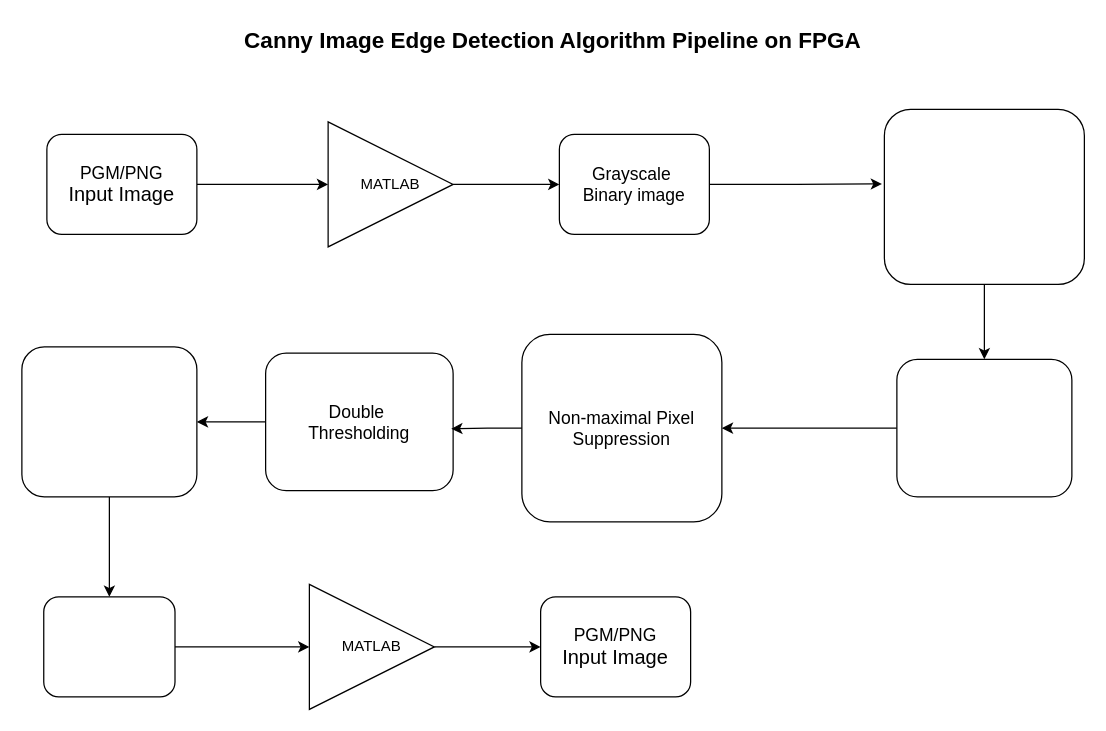
This 1106x731 diagram has some shape labels left out. The shapes that lost their labels are listed below. From the top down, each one's centre as x and y in pixels, then its label:
the point at 983,196: Gaussian Filter Image Smoothing
the point at 109,421: Edge Tracking by Hysteresis
the point at 984,427: Gradient Calculation
the point at 108,646: Output Edge Image
